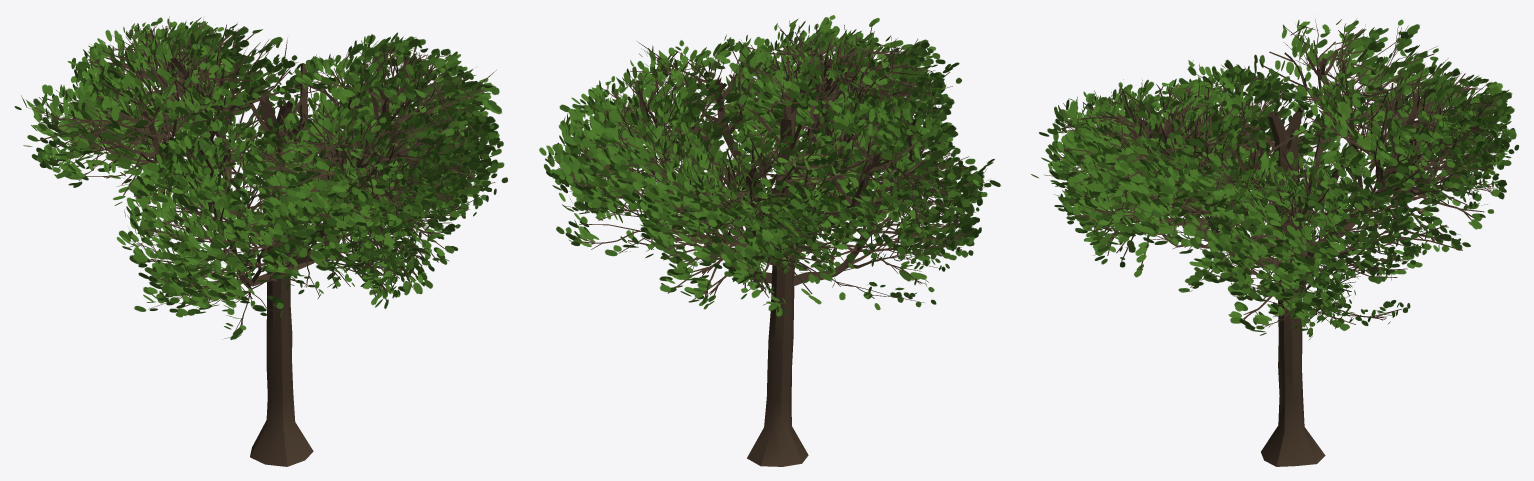
The picture shows the model from 3 angles, left to right: view 1: azimuth 30°, elevation 25°; view 2: azimuth 150°, elevation 25°; view 3: azimuth 270°, elevation 25°; orthographic projection. The views are drawn at different scales.
Visible parts, largest first — view 1: oak 01.001_trunk_Mat.001_0.035; view 2: oak 01.001_trunk_Mat.001_0.035; view 3: oak 01.001_trunk_Mat.001_0.035.
Part boxes in pixels (left/top/right/bottom): oak 01.001_trunk_Mat.001_0.035: left=14, top=16, right=507, bottom=466; oak 01.001_trunk_Mat.001_0.035: left=539, top=15, right=1000, bottom=466; oak 01.001_trunk_Mat.001_0.035: left=1031, top=19, right=1519, bottom=466.
Bounding box in the file's own units: 4.3 × 3.42 × 4.19.
Materials: 2 (1 with a texture image).
